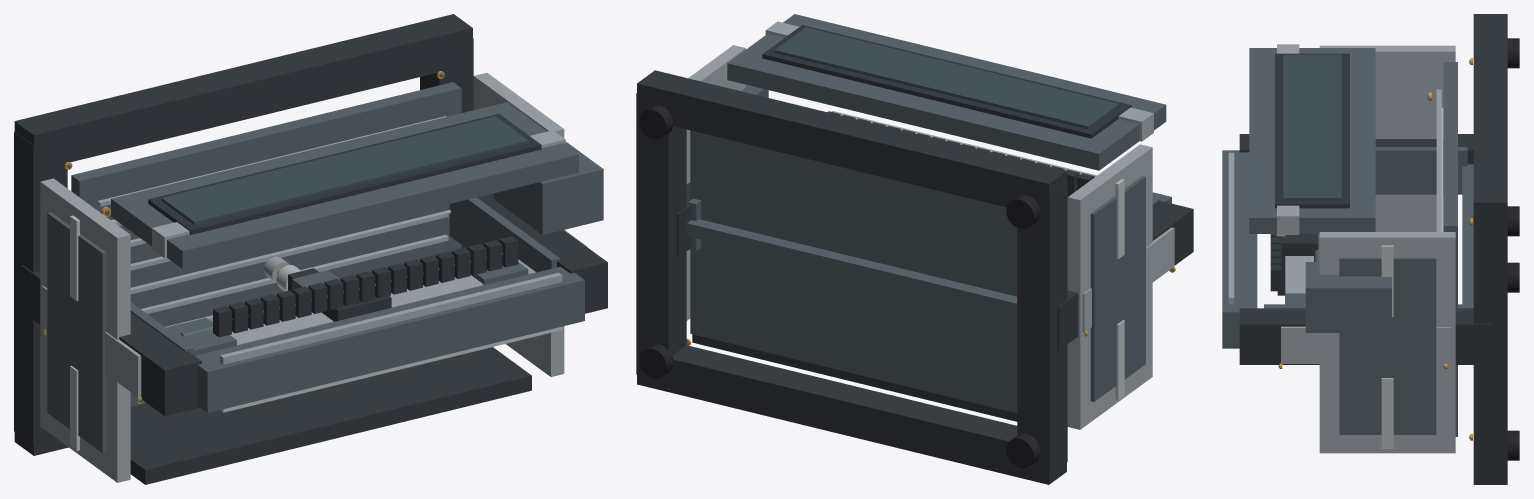
The model's file is RY-L1390_ASSEMBLED.glb.
3 views of the same model, side by side, from view 1: azimuth 30°, elevation 25°; view 2: azimuth 150°, elevation 25°; view 3: azimuth 270°, elevation 25° (orthographic). The views are drawn at different scales.
Parts seen in each view (by area): view 1: 06_work_bed_0, 01_base_chassis_3, 14_front_door_frame_0, 04_top_beam_0, 15_top_lid_0, 15_top_lid_2, 16_left_panel_1, 16_left_panel_0, 01_base_chassis_1, 02_left_upright_0, 13_control_box_0, 15_top_lid_1 (+19 smaller); view 2: 06_work_bed_0, 01_base_chassis_3, 01_base_chassis_0, 15_top_lid_0, 01_base_chassis_1, 01_base_chassis_2, 15_top_lid_2, 16_left_panel_1, 16_left_panel_0, 01_base_chassis_4, 15_top_lid_1, 14_front_door_frame_0 (+12 smaller); view 3: 17_right_panel_1, 15_top_lid_0, 17_right_panel_0, 16_left_panel_0, 15_top_lid_2, 01_base_chassis_2, 01_base_chassis_3, 13_control_box_0, 04_top_beam_0, 03_right_upright_0, 15_top_lid_1, 02_left_upright_1 (+17 smaller).
Boxes of the visible parts, left/top/right/bottom form: 06_work_bed_0: left=71, top=82, right=461, bottom=406; 01_base_chassis_3: left=14, top=14, right=472, bottom=162; 14_front_door_frame_0: left=130, top=347, right=531, bottom=484; 04_top_beam_0: left=195, top=266, right=584, bottom=412; 15_top_lid_0: left=111, top=102, right=578, bottom=268; 15_top_lid_2: left=161, top=116, right=528, bottom=224; 16_left_panel_1: left=47, top=212, right=106, bottom=453; 16_left_panel_0: left=40, top=178, right=130, bottom=482; 01_base_chassis_1: left=14, top=131, right=67, bottom=445; 02_left_upright_0: left=21, top=265, right=201, bottom=416; 13_control_box_0: left=493, top=141, right=603, bottom=234; 15_top_lid_1: left=148, top=114, right=541, bottom=234; 06_work_bed_0: left=690, top=130, right=1017, bottom=413; 01_base_chassis_3: left=637, top=70, right=1066, bottom=212; 01_base_chassis_0: left=637, top=345, right=1066, bottom=484; 15_top_lid_0: left=727, top=14, right=1166, bottom=170; 01_base_chassis_1: left=1017, top=180, right=1067, bottom=475; 01_base_chassis_2: left=636, top=93, right=686, bottom=377; 15_top_lid_2: left=774, top=27, right=1119, bottom=129; 16_left_panel_1: left=1090, top=176, right=1145, bottom=401; 16_left_panel_0: left=1067, top=144, right=1152, bottom=429; 01_base_chassis_4: left=687, top=219, right=1017, bottom=316; 15_top_lid_1: left=762, top=25, right=1131, bottom=138; 14_front_door_frame_0: left=692, top=334, right=1017, bottom=421; 17_right_panel_1: left=1339, top=257, right=1436, bottom=434; 15_top_lid_0: left=1249, top=48, right=1375, bottom=233; 17_right_panel_0: left=1319, top=232, right=1455, bottom=453; 16_left_panel_0: left=1319, top=45, right=1455, bottom=231; 15_top_lid_2: left=1283, top=54, right=1341, bottom=200; 01_base_chassis_2: left=1473, top=212, right=1507, bottom=475; 01_base_chassis_3: left=1473, top=14, right=1507, bottom=211; 13_control_box_0: left=1305, top=262, right=1391, bottom=332; 04_top_beam_0: left=1222, top=150, right=1257, bottom=348; 03_right_upright_0: left=1239, top=308, right=1491, bottom=364; 15_top_lid_1: left=1275, top=53, right=1349, bottom=208; 02_left_upright_1: left=1375, top=147, right=1467, bottom=194.
Bounding box in the file's own units: 1014 × 642 × 613.
